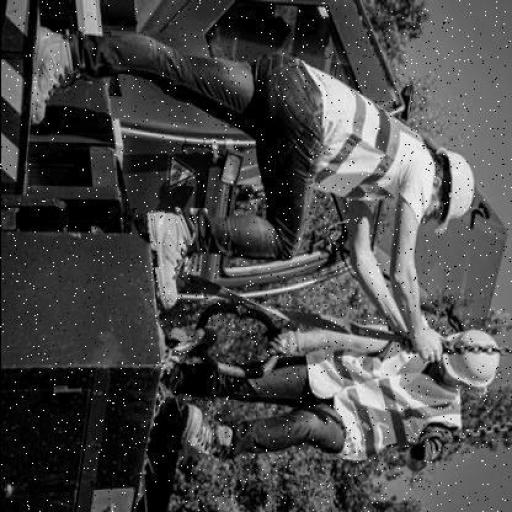person: (6, 10, 473, 298), (159, 308, 512, 475)
safety_shoe: (24, 22, 73, 137), (148, 206, 192, 296), (172, 414, 238, 456)
